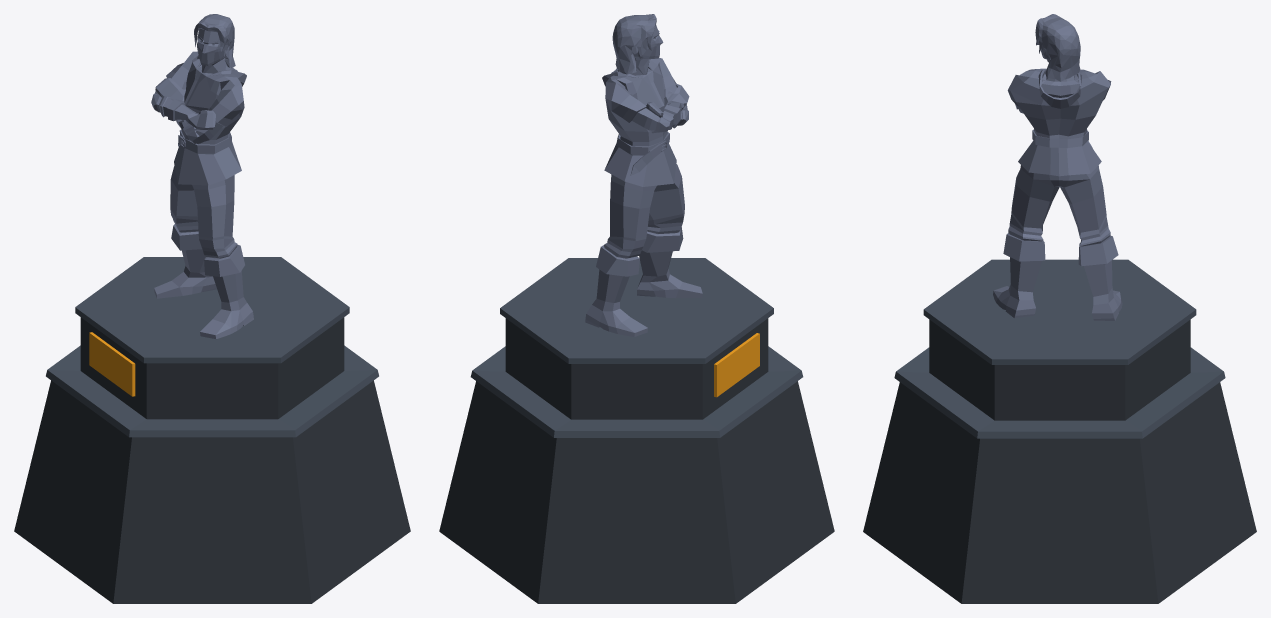
Rendered from statue.fbx.
3 views of the same model, side by side, from view 1: azimuth 30°, elevation 25°; view 2: azimuth 150°, elevation 25°; view 3: azimuth 270°, elevation 25° (orthographic).
Visible parts, largest first — view 1: Cylinder; view 2: Cylinder; view 3: Cylinder.
Boxes of the visible parts, x1,y1,x2,y2 form: Cylinder: (14, 14, 410, 603); Cylinder: (439, 14, 834, 603); Cylinder: (863, 14, 1256, 603).
Bounding box in the file's own units: 7.83 × 12.93 × 9.04.
